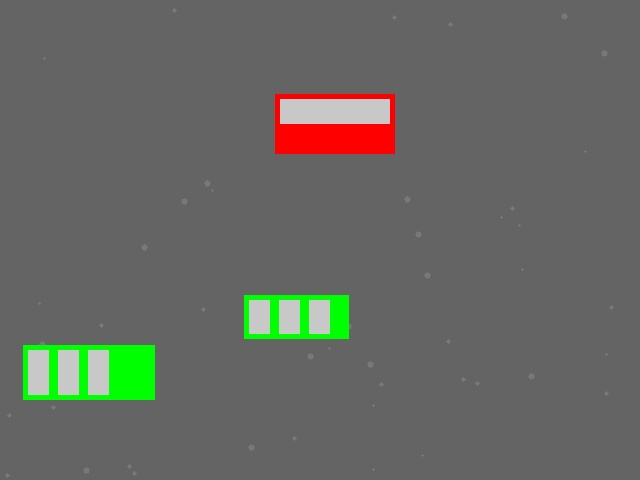bus: (23, 345, 154, 399), (244, 295, 348, 338)
car: (275, 94, 394, 153)
